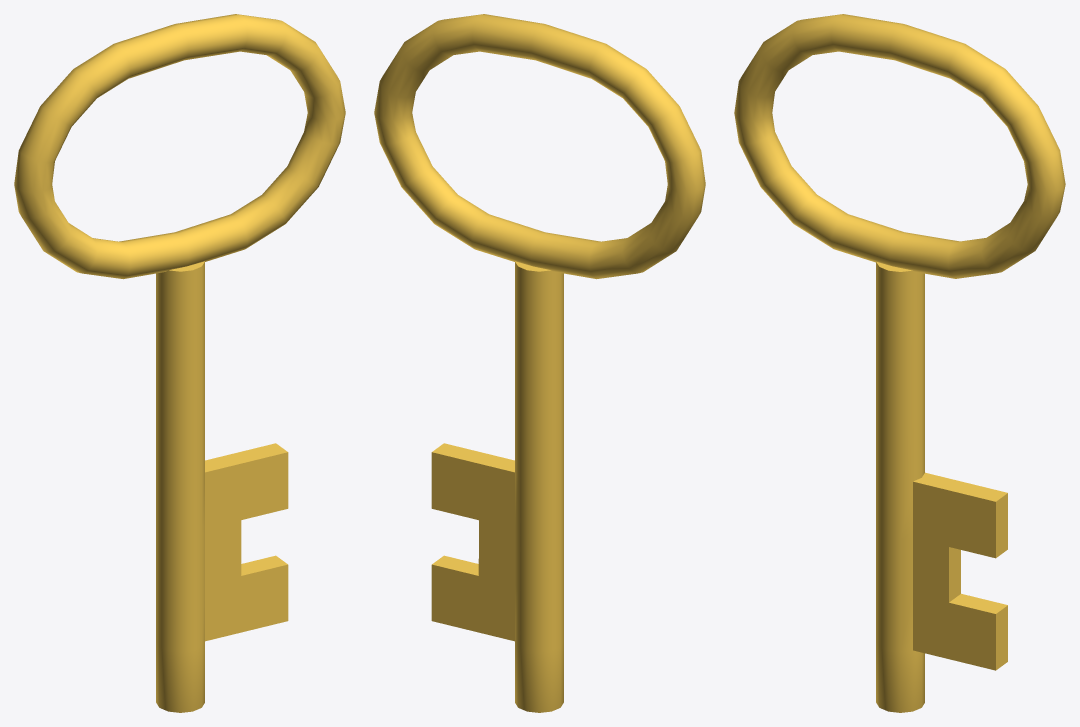
The model's file is Key.fbx.
3 views of the same model, side by side, from view 1: azimuth 30°, elevation 25°; view 2: azimuth 150°, elevation 25°; view 3: azimuth 330°, elevation 25° (orthographic).
Visible parts, largest first — view 1: Key; view 2: Key; view 3: Key.
Part boxes in pixels (x1,y1,x2,y2): Key: (14, 14, 345, 712); Key: (374, 14, 705, 712); Key: (734, 14, 1065, 712).
Bounding box in the file's own units: 12.74 × 25.27 × 1.65.
